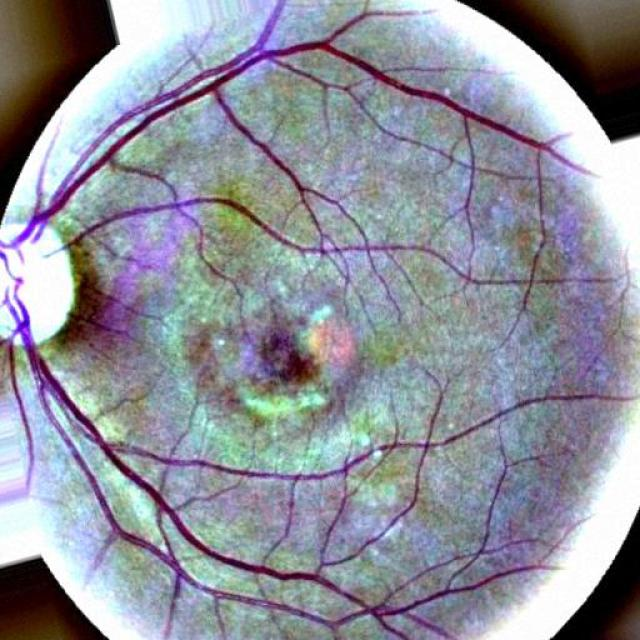Macula: (244, 316, 320, 391)
Nerves: (11, 41, 572, 251)
Optic Disk: (16, 326, 427, 628), (0, 213, 83, 360)
